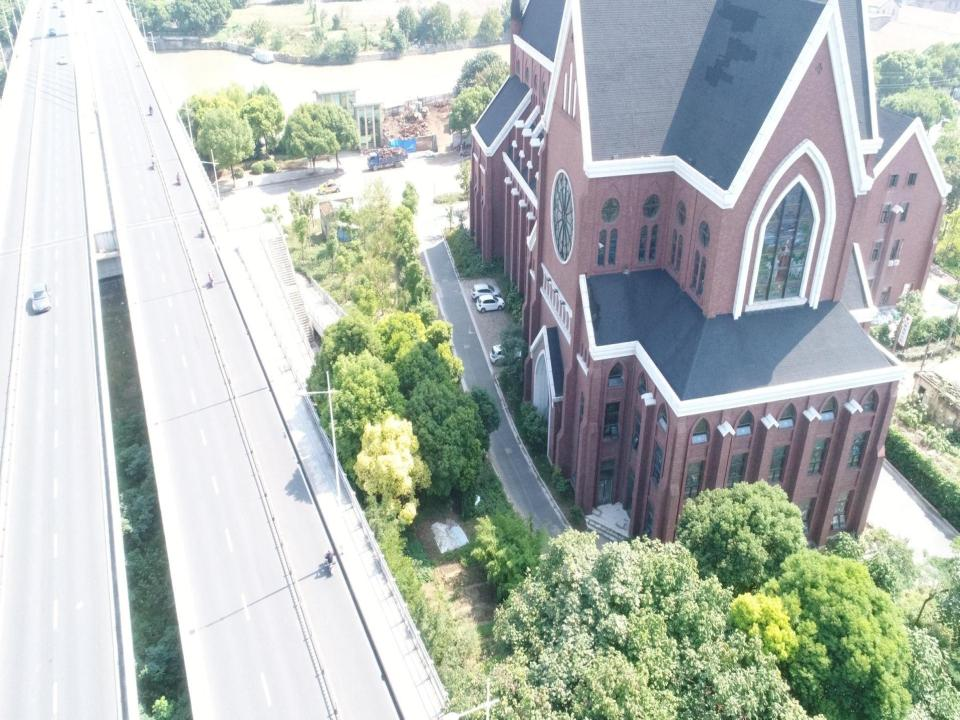car: (490, 344, 522, 365), (32, 283, 52, 313), (477, 294, 505, 312), (471, 284, 502, 300), (318, 178, 340, 196), (59, 53, 68, 65), (48, 27, 57, 35), (94, 5, 103, 13), (60, 9, 66, 18), (52, 1, 58, 9)
truck: (368, 147, 409, 172)
